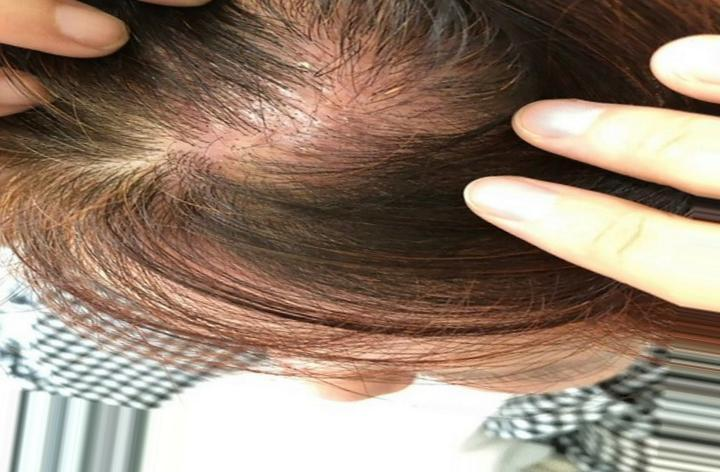Contact Dermatitis: (170, 30, 449, 226)
